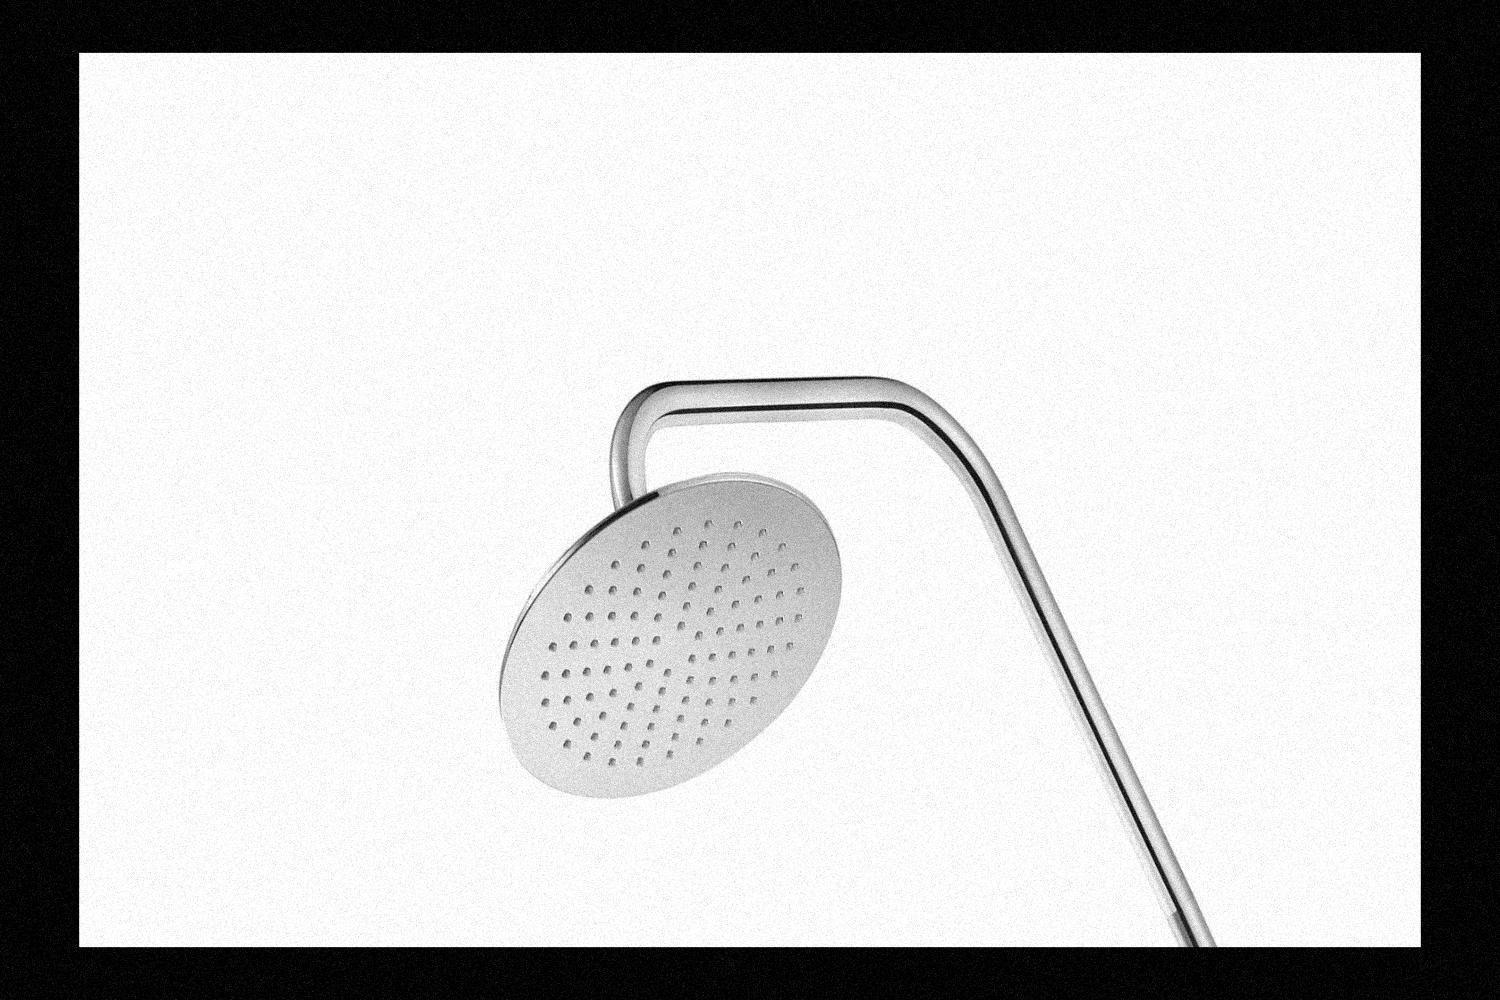Ducha: (506, 327, 1247, 948)
